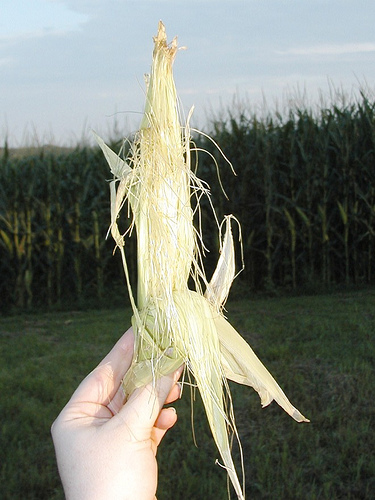corn: (101, 22, 210, 385)
